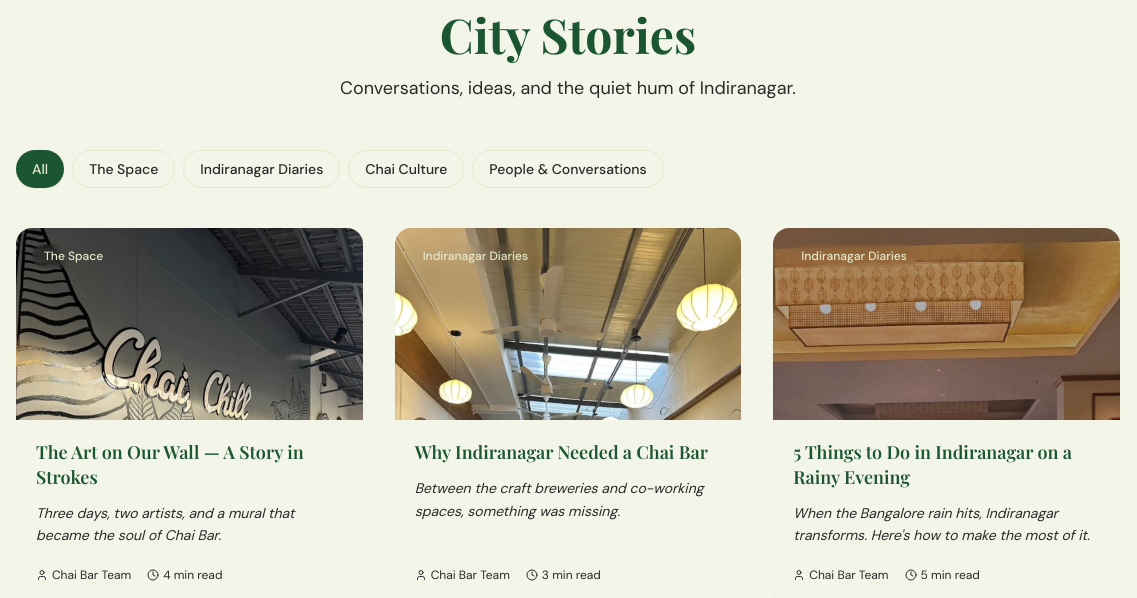
Test: BlogList › category filter shows all posts when 'All' is selected
This screenshot has width=1137, height=598.
First narrow down
Click the button "The Space". click: {"x": 124, "y": 169}
box: x1=72 y1=150 x2=175 y2=188
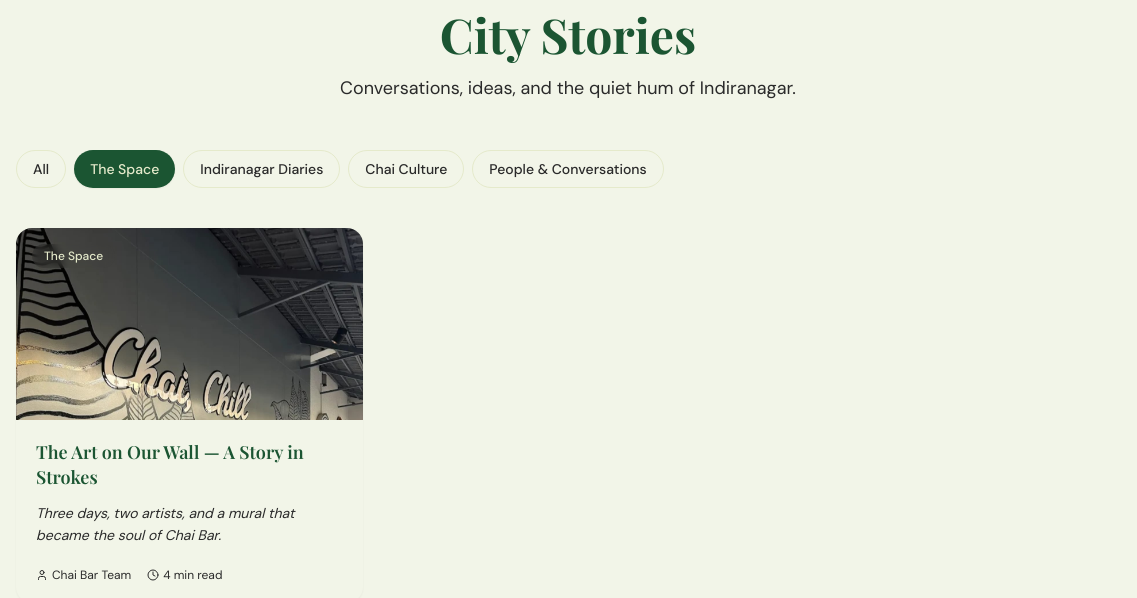
Then go back to All
Click the button "All". click: {"x": 41, "y": 169}
box: x1=16 y1=150 x2=66 y2=188
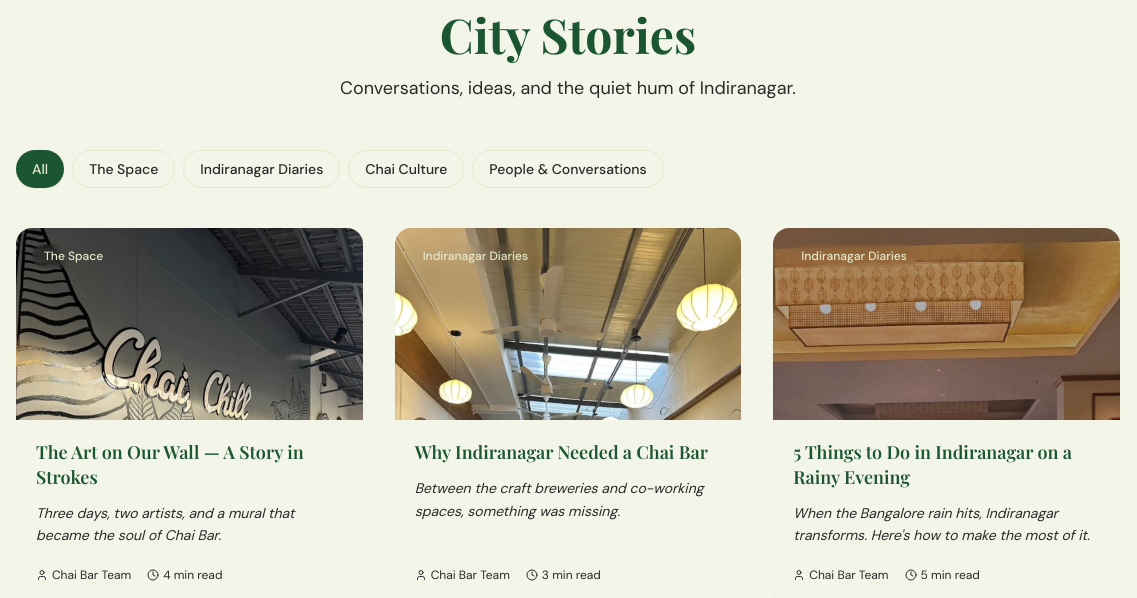
Expected: the heading "The Art on Our Wall — A Story in Strokes" is shown, x1=36 y1=440 x2=343 y2=490
Now the heading "Why Indiranagar Needed a Chai Bar" is shown, box x1=415 y1=440 x2=721 y2=465
Now the heading "5 Things to Do in Indiranagar on a Rainy Evening" is shown, box x1=793 y1=440 x2=1100 y2=490
